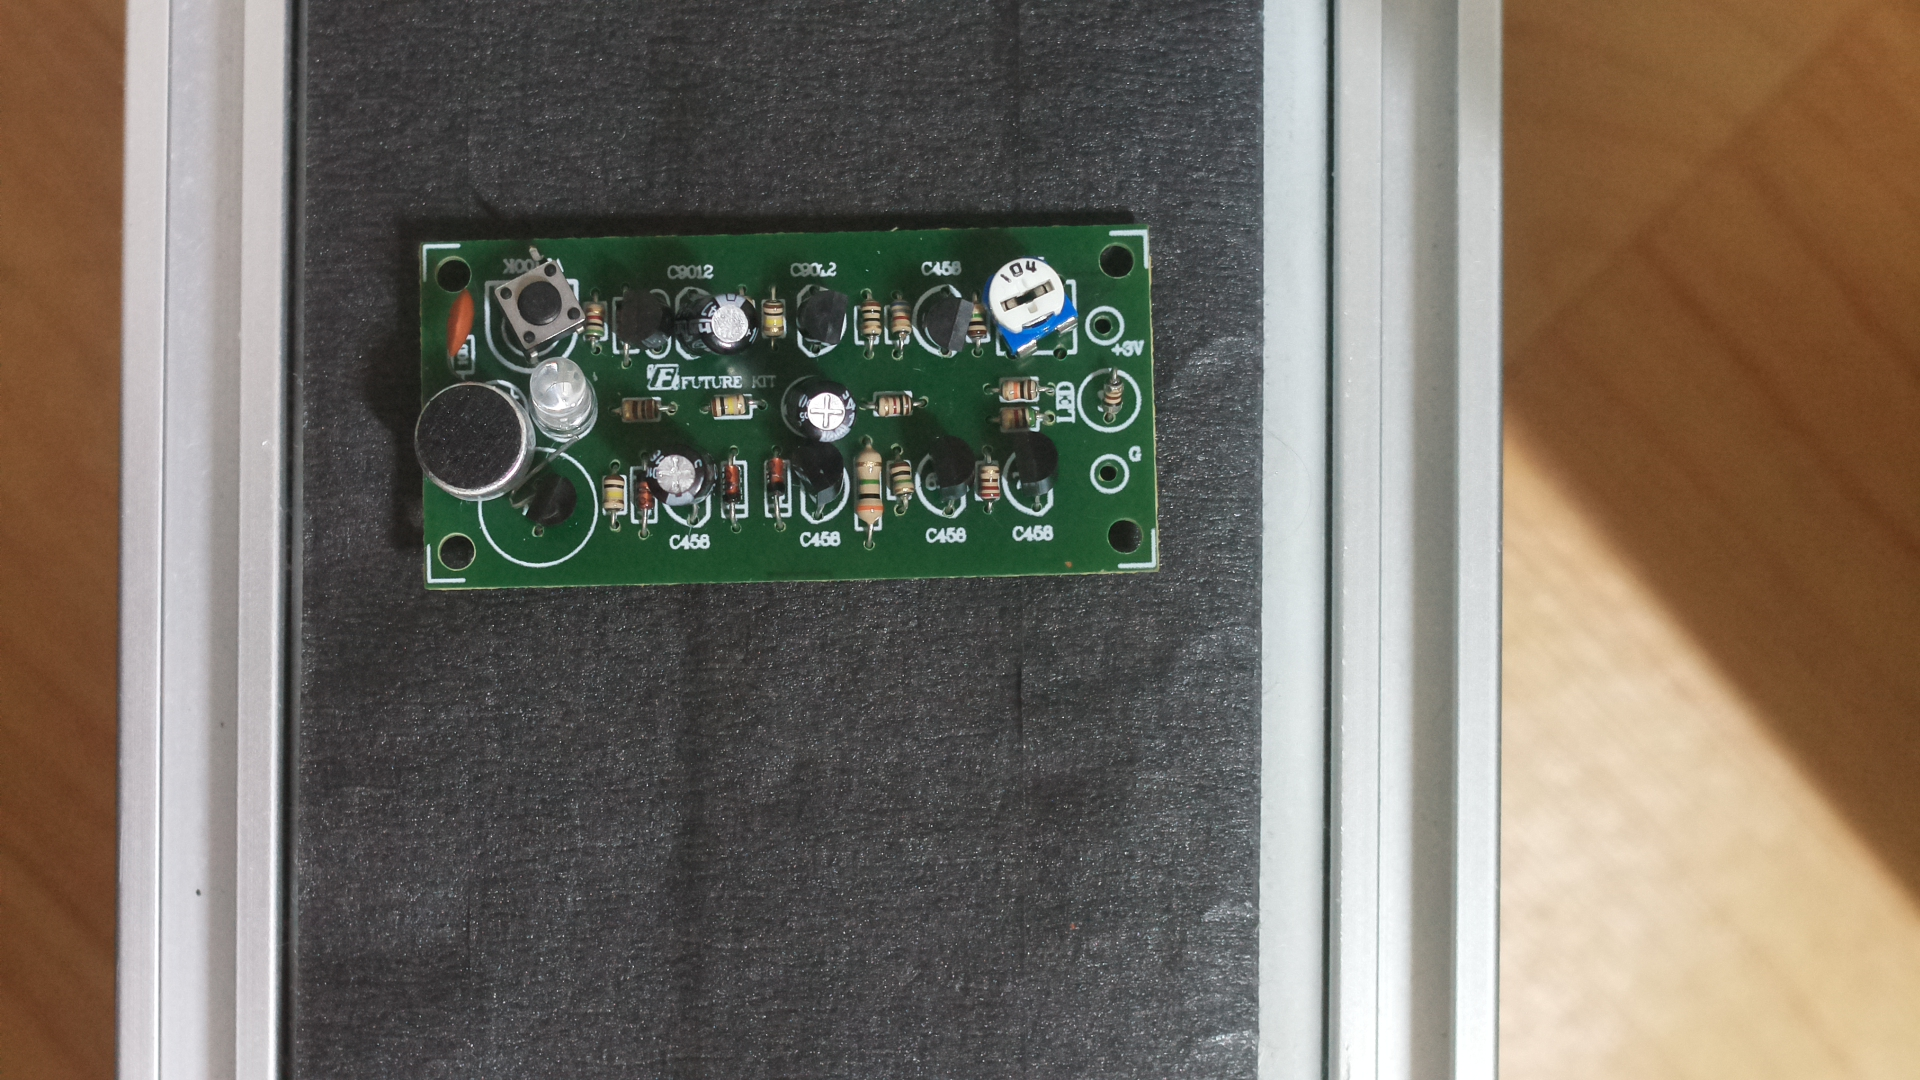A_Misordered: (401, 222, 1178, 609)
